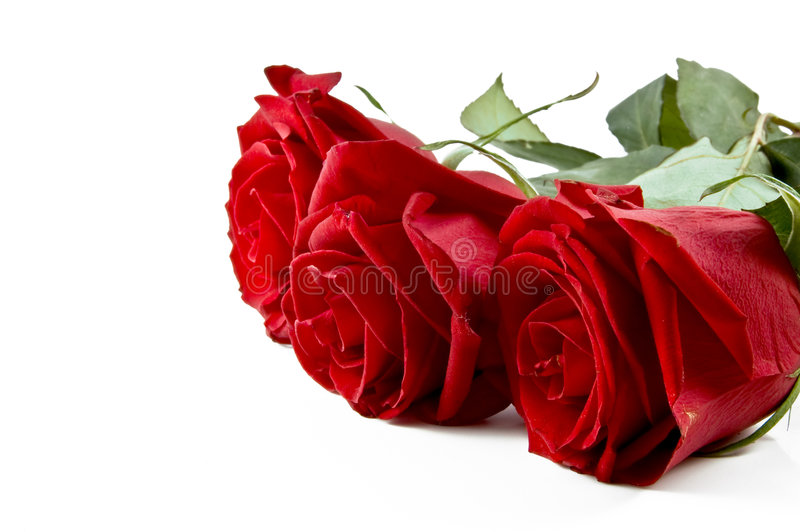RedRose: (479, 209, 771, 465), (236, 71, 413, 340), (306, 148, 470, 396)
